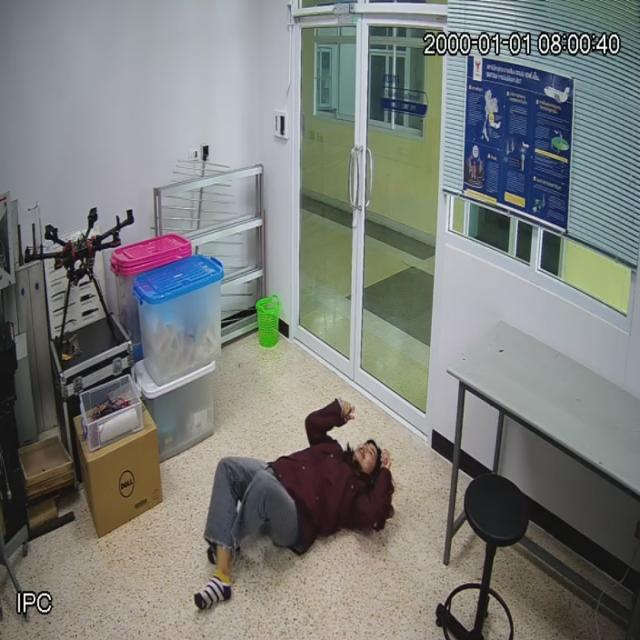fall: (207, 403, 395, 572)
